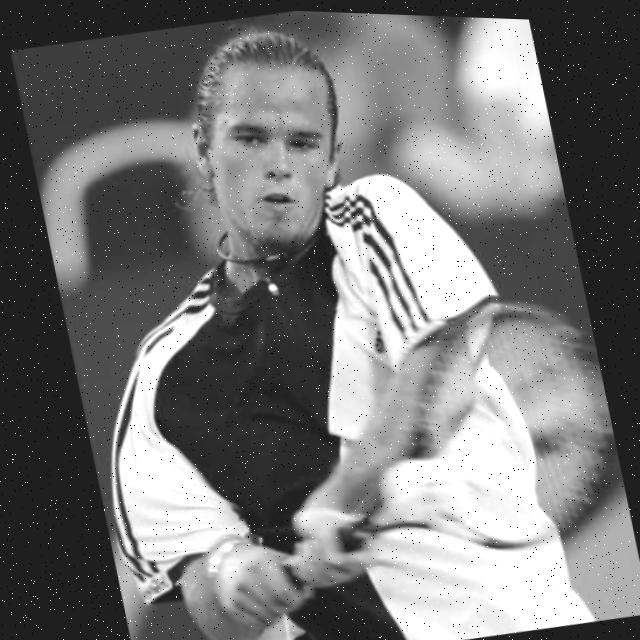face: (173, 33, 375, 264)
